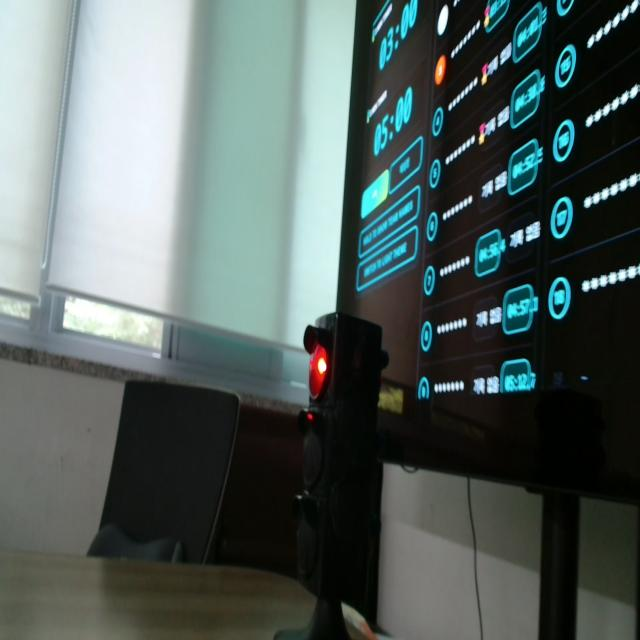red_light: (310, 344, 327, 399), (435, 55, 446, 86), (317, 357, 326, 375)
